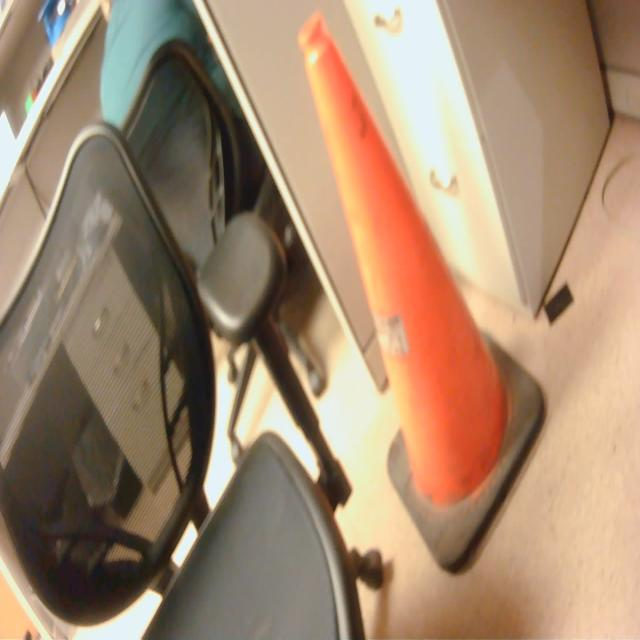traffic cone: (294, 8, 558, 582)
